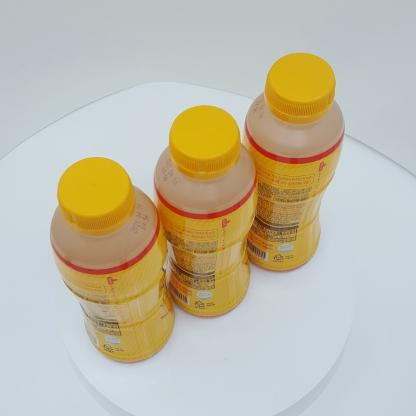------500ML: (50, 157, 175, 363), (240, 52, 345, 272), (152, 105, 259, 318)
